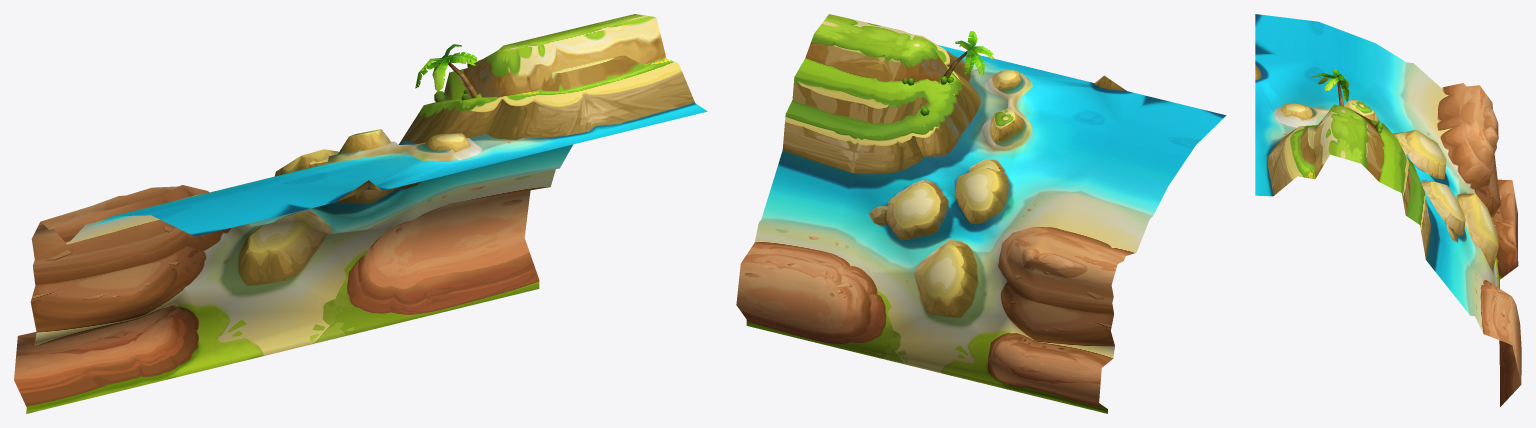
The model's file is Chapter5Model1.FBX.
The picture shows the model from 3 angles, left to right: view 1: azimuth 30°, elevation 25°; view 2: azimuth 150°, elevation 25°; view 3: azimuth 270°, elevation 25°; orthographic projection. The views are drawn at different scales.
Parts seen in each view (by area): view 1: Chapter5Model1Model1, Chapter5Model1Model2; view 2: Chapter5Model1Model1, Chapter5Model1Model2; view 3: Chapter5Model1Model1, Chapter5Model1Model2.
Part boxes in pixels (x1,y1,x2,y2): Chapter5Model1Model1: (14,14,707,413); Chapter5Model1Model2: (415,44,477,98); Chapter5Model1Model1: (736,14,1226,413); Chapter5Model1Model2: (943,31,994,78); Chapter5Model1Model1: (1255,14,1521,406); Chapter5Model1Model2: (1311,69,1349,106).
Bounding box in the file's own units: 970 × 601 × 673.
